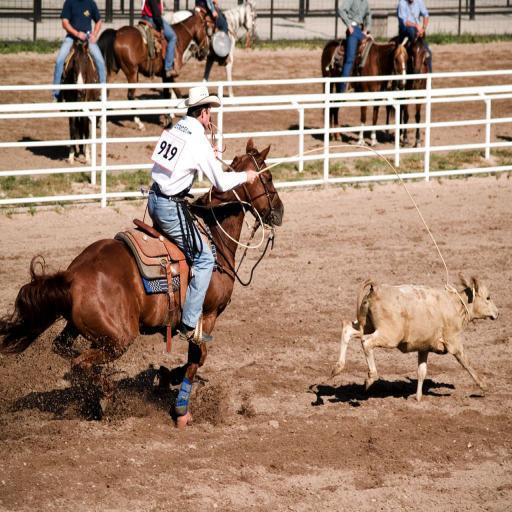horse: (0, 135, 285, 429), (96, 5, 209, 135), (161, 0, 259, 99), (321, 40, 410, 148), (382, 32, 430, 148), (60, 39, 98, 166)
